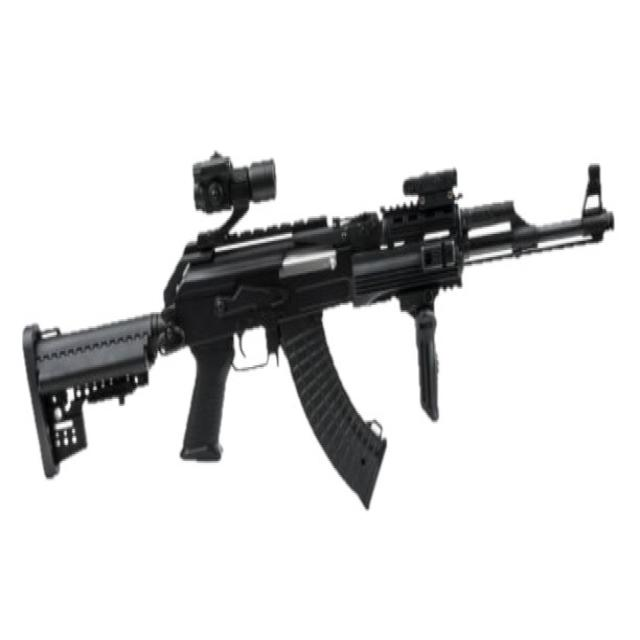rifle: (8, 139, 635, 533)
